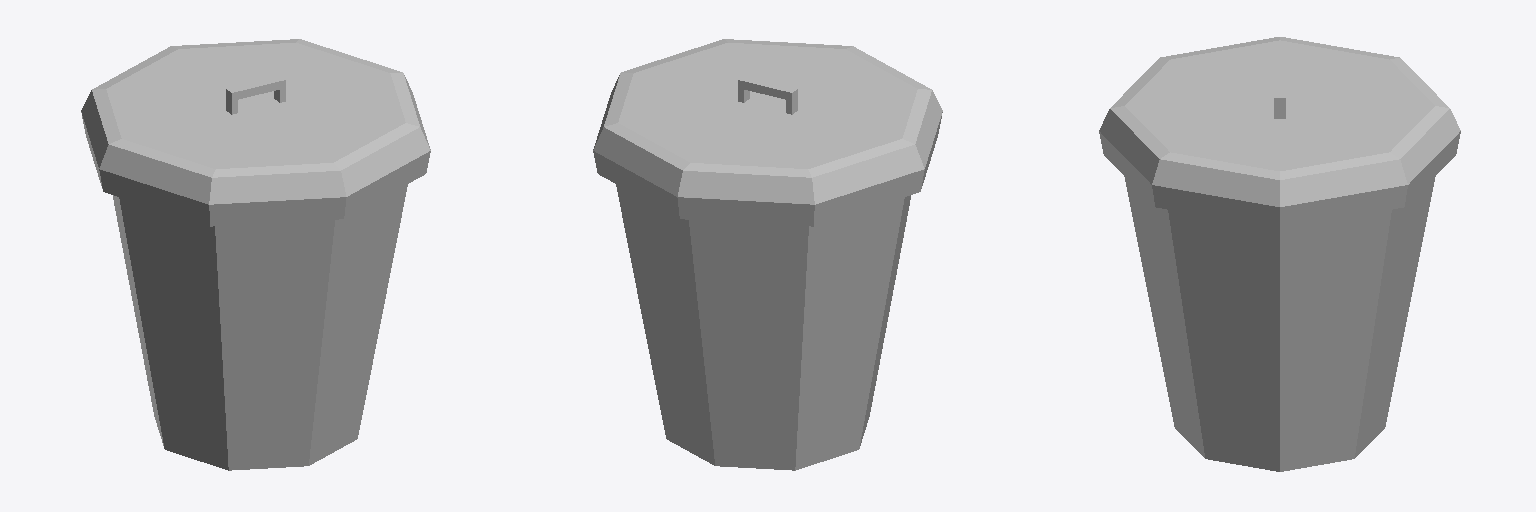
File: trashcan-together.obj
3 views of the same model, side by side, from view 1: azimuth 30°, elevation 25°; view 2: azimuth 150°, elevation 25°; view 3: azimuth 270°, elevation 25° (orthographic).
Visible parts, largest first — view 1: TrashCan-Together_Cylinder.027, Cube.034_Cube.022; view 2: TrashCan-Together_Cylinder.027, Cube.034_Cube.022; view 3: TrashCan-Together_Cylinder.027, Cube.034_Cube.022.
Part boxes in pixels (x1,y1,x2,y2): TrashCan-Together_Cylinder.027: (81, 39, 430, 470); Cube.034_Cube.022: (226, 76, 285, 114); TrashCan-Together_Cylinder.027: (593, 39, 942, 470); Cube.034_Cube.022: (738, 76, 797, 114); TrashCan-Together_Cylinder.027: (1099, 37, 1460, 471); Cube.034_Cube.022: (1274, 71, 1285, 118).
Bounding box in the file's own units: 1.3 × 1.36 × 1.3.